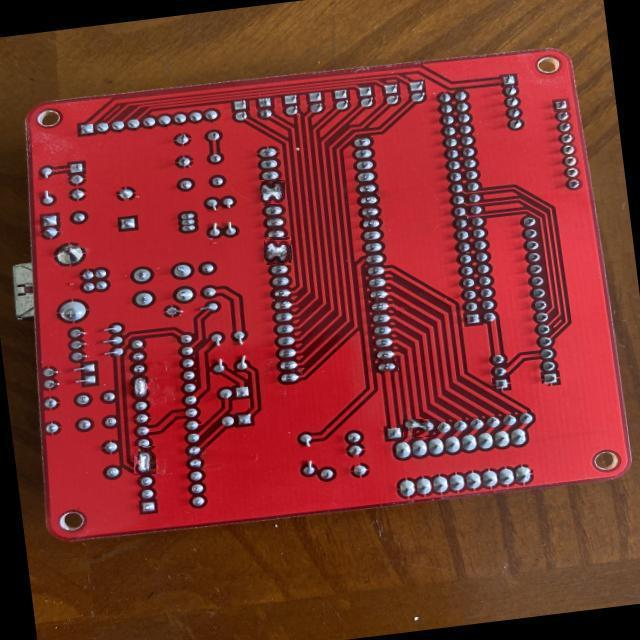damged: (265, 238, 291, 264), (134, 446, 156, 474), (403, 419, 437, 437), (261, 180, 285, 204), (130, 375, 152, 399)
